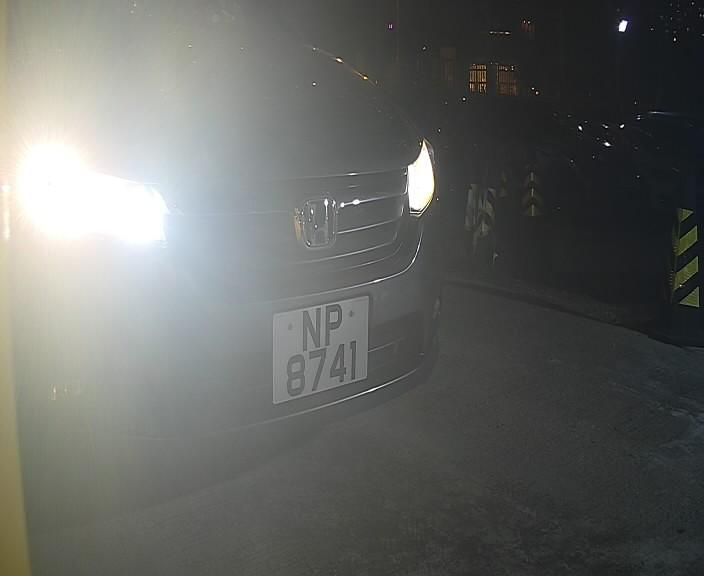privatecar: (1, 1, 522, 530)
